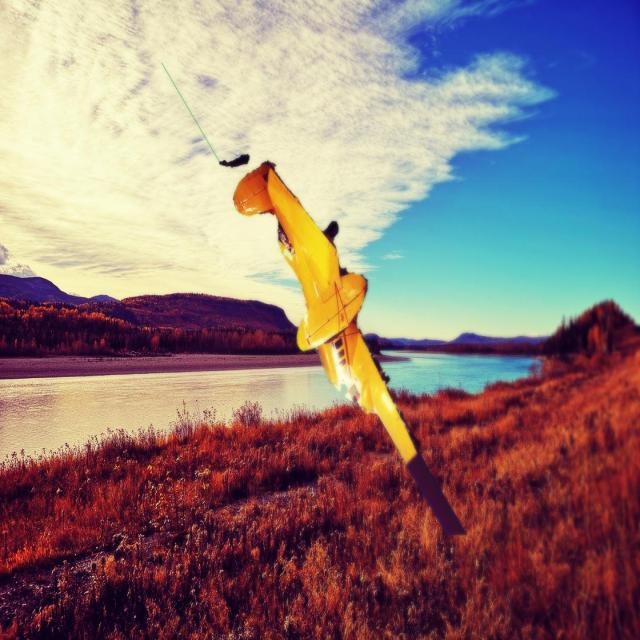airplane: (160, 61, 467, 536)
